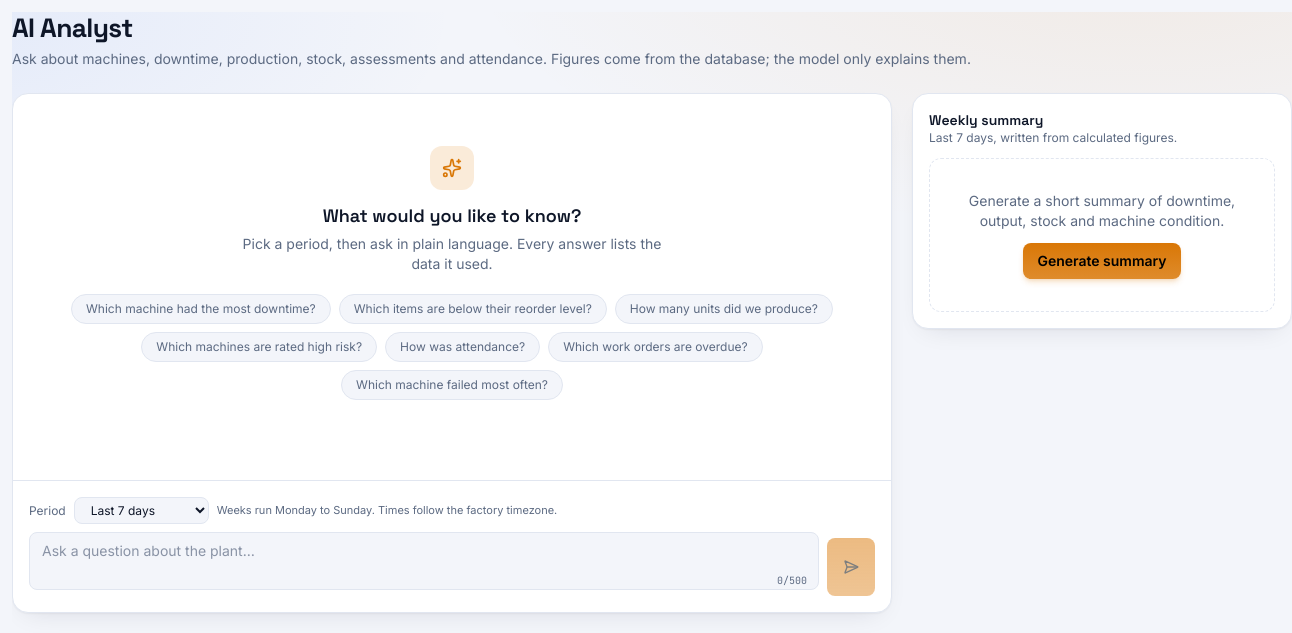
Test: asking a question › shows the answer's limitations
Type "What is low on stock?" into the text box named "Your question" at (424, 561), box [29, 532, 819, 590]
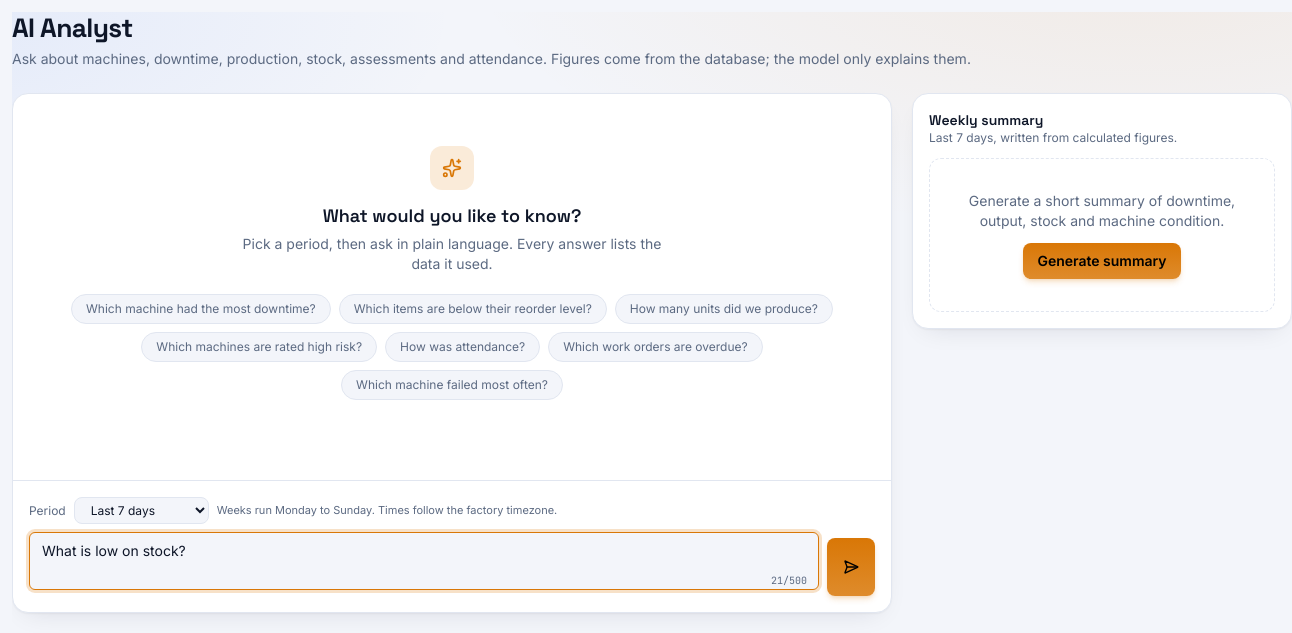
Press Enter
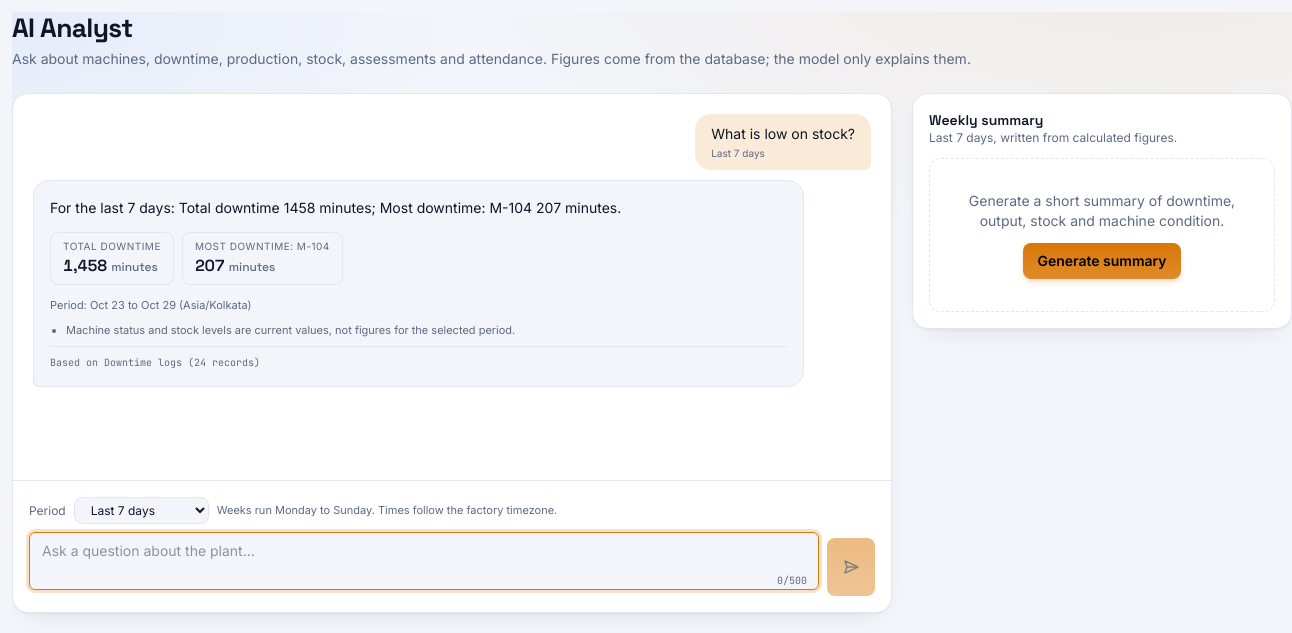
Now the list item "current values, not figures" is shown, box [66, 322, 515, 336]
